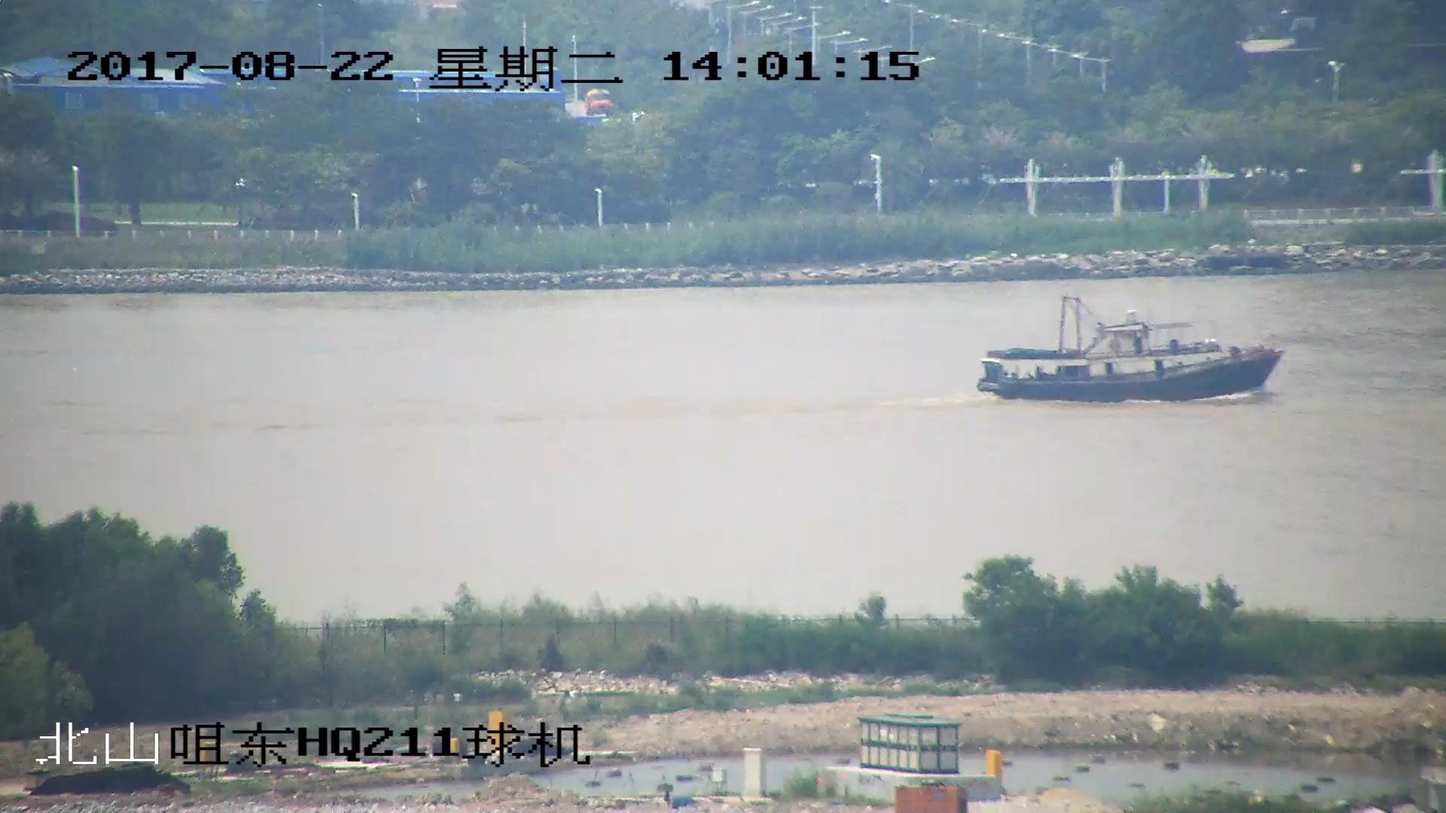fishing boat: (983, 297, 1279, 404)
